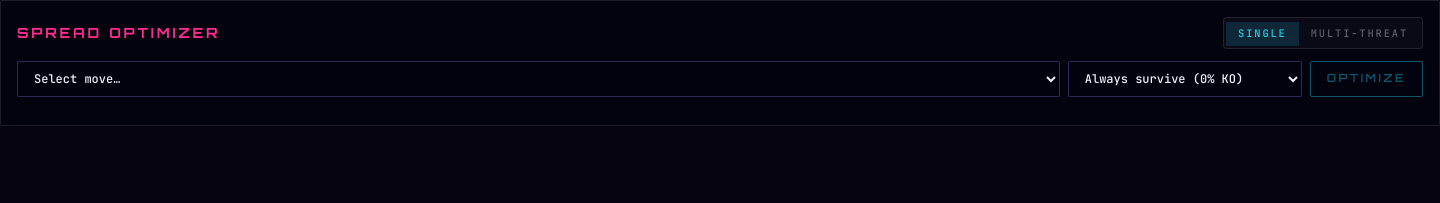
Scenario: SpreadOptimizerPanel › shows results after selecting move and clicking optimize
The width and height of the screenshot is (1440, 203).
Select "Earthquake" in the dropdown named "move id" at (538, 79), box top-left (17, 61), bottom-right (1060, 97)
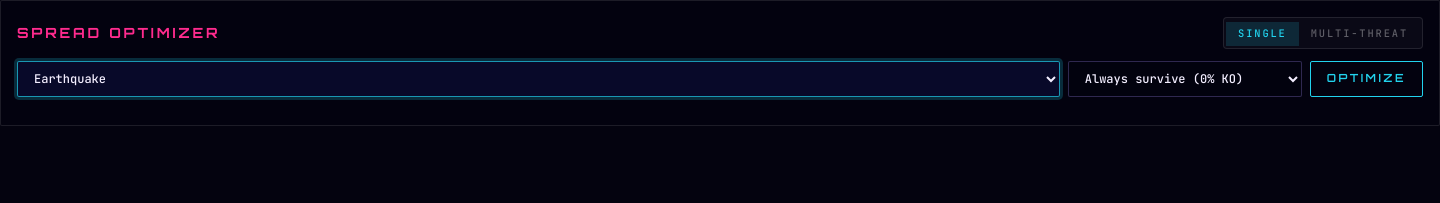
Click the button "Optimize" at (1366, 79), box top-left (1310, 61), bottom-right (1423, 97)
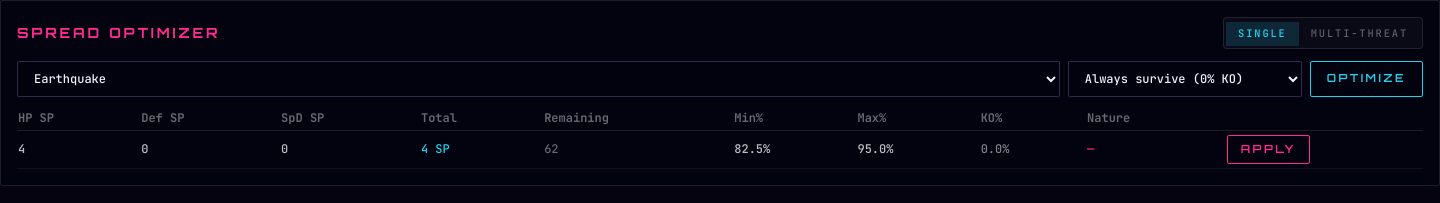
Check: the text "4 SP" is shown, box top-left (420, 130), bottom-right (543, 168)
